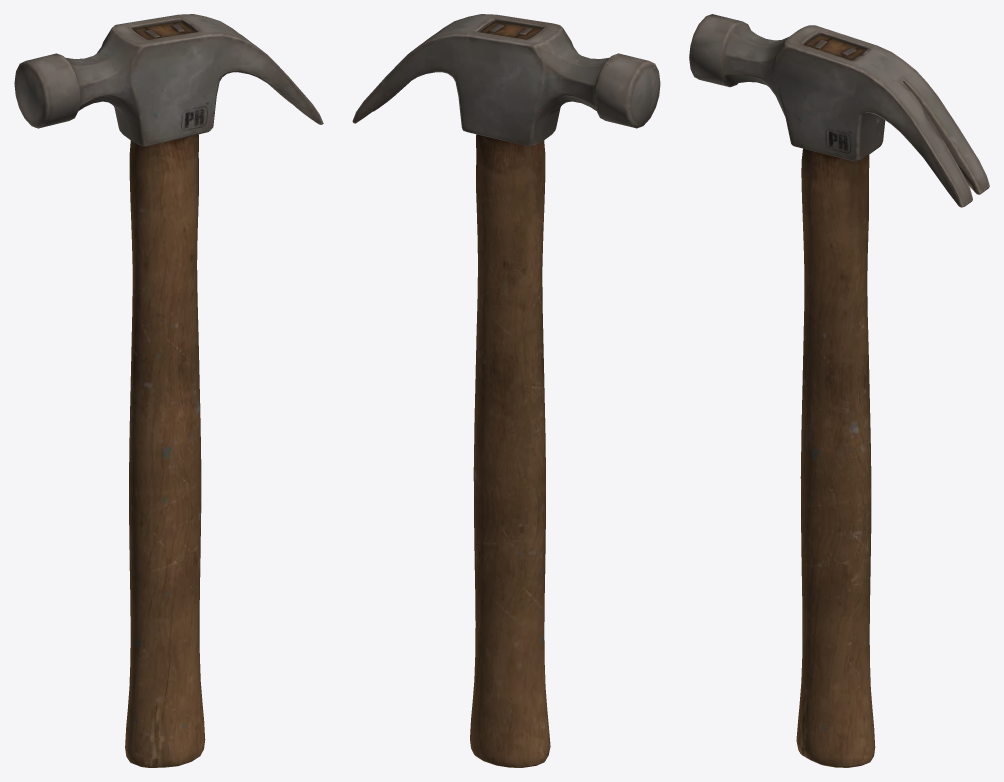
The model's file is wooden_hammer_01.glb.
3 views of the same model, side by side, from view 1: azimuth 30°, elevation 25°; view 2: azimuth 150°, elevation 25°; view 3: azimuth 330°, elevation 25° (orthographic). The views are drawn at different scales.
Parts seen in each view (by area): view 1: wooden_hammer_01; view 2: wooden_hammer_01; view 3: wooden_hammer_01.
Part boxes in pixels (left/top/right/bottom): wooden_hammer_01: left=14, top=14, right=323, bottom=767; wooden_hammer_01: left=352, top=14, right=660, bottom=767; wooden_hammer_01: left=689, top=14, right=989, bottom=767.
Bounding box in the file's own units: 0.1118 × 0.2792 × 0.0234.
Materials: 1 (1 with a texture image).
